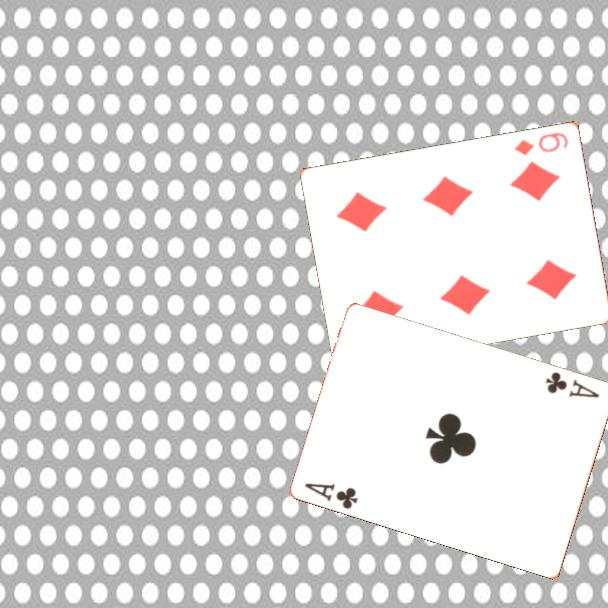c01: (542, 368, 603, 401), (301, 479, 361, 512)
d06: (511, 129, 571, 158)
